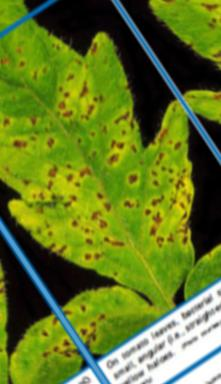Tomato leaf bacterial spot: (0, 0, 221, 356)
